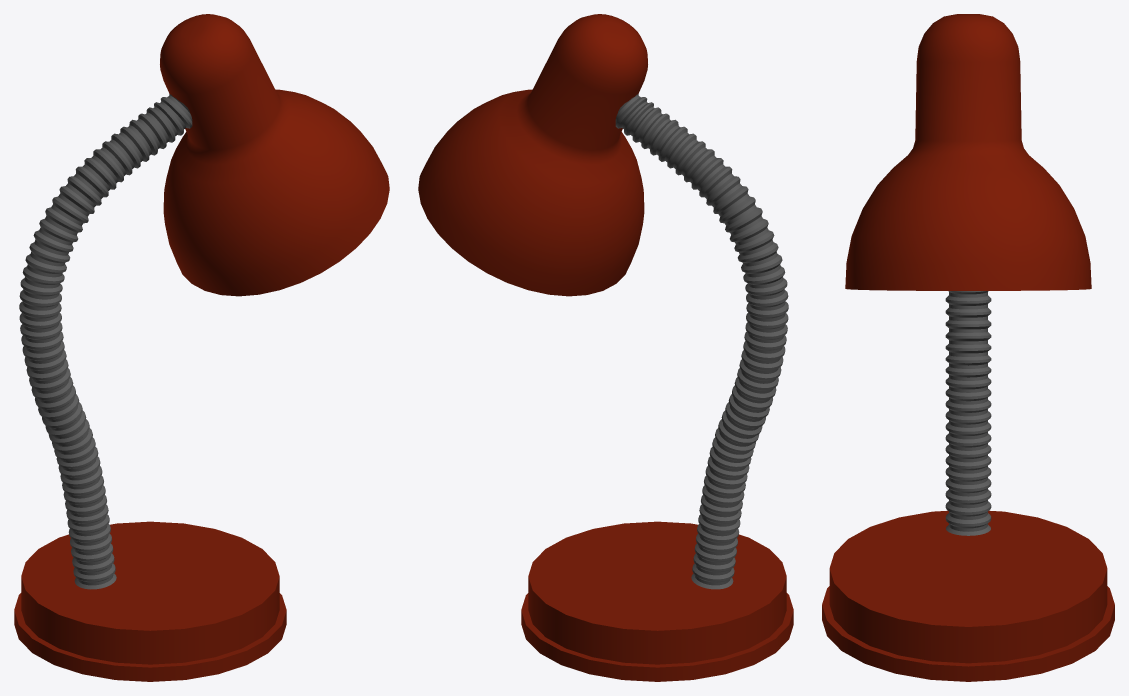
Rendered from lamp-desk.gltf.
3 views of the same model, side by side, from view 1: azimuth 30°, elevation 25°; view 2: azimuth 150°, elevation 25°; view 3: azimuth 270°, elevation 25° (orthographic). The views are drawn at different scales.
Visible parts, largest first — view 1: lamp-shade, lamp-base, lamp-neck; view 2: lamp-shade, lamp-base, lamp-neck; view 3: lamp-shade, lamp-base, lamp-neck.
Boxes of the visible parts, left/top/right/bottom form: lamp-shade: left=160, top=14, right=389, bottom=296; lamp-base: left=14, top=521, right=286, bottom=681; lamp-neck: left=19, top=94, right=192, bottom=589; lamp-shade: left=418, top=14, right=647, bottom=296; lamp-base: left=521, top=521, right=793, bottom=681; lamp-neck: left=615, top=94, right=788, bottom=589; lamp-shade: left=845, top=14, right=1091, bottom=290; lamp-base: left=822, top=510, right=1114, bottom=681; lamp-neck: left=945, top=291, right=991, bottom=535.
Bounding box in the file's own units: 0.1894 × 0.3045 × 0.1273.
